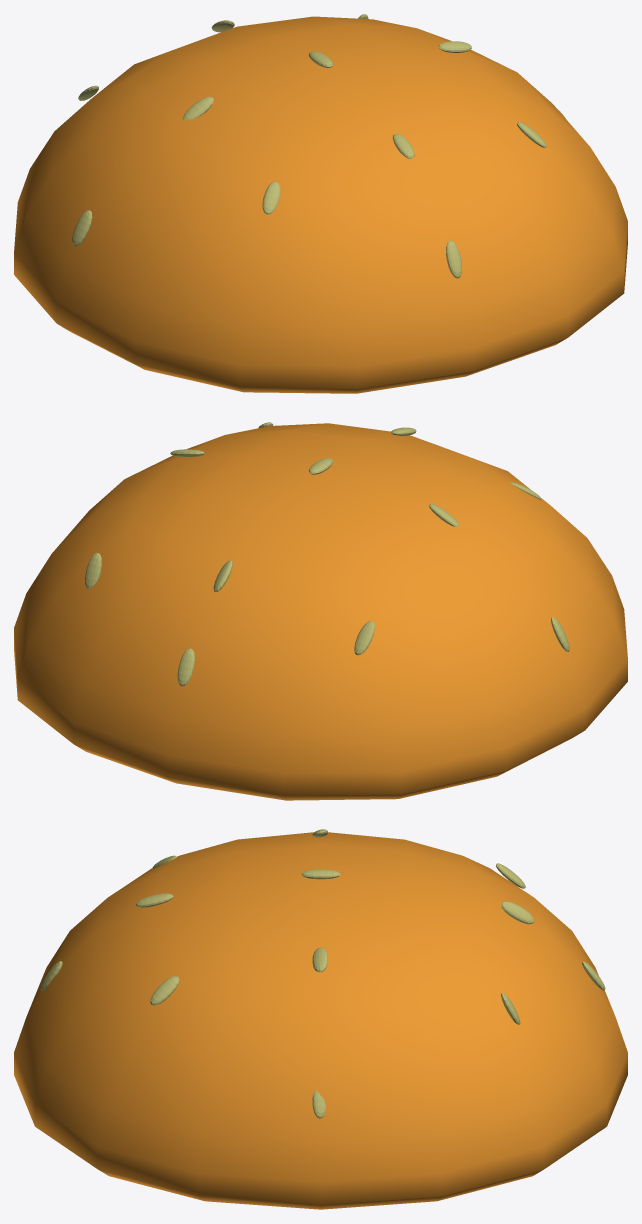
The model's file is pansuperior.glb.
3 views of the same model, one above another, from view 1: azimuth 30°, elevation 25°; view 2: azimuth 150°, elevation 25°; view 3: azimuth 270°, elevation 25° (orthographic).
Parts seen in each view (by area): view 1: Pan Superior.001, pepitas.001; view 2: Pan Superior.001, pepitas.001; view 3: Pan Superior.001, pepitas.001.
Part boxes in pixels (<box>): Pan Superior.001: <box>14,16,627,393</box>; pepitas.001: <box>72,14,565,278</box>; Pan Superior.001: <box>14,423,627,800</box>; pepitas.001: <box>85,422,569,686</box>; Pan Superior.001: <box>14,832,627,1209</box>; pepitas.001: <box>40,829,605,1118</box>.
Size of the model in its own units: 2.06 by 0.8192 by 2.06.
